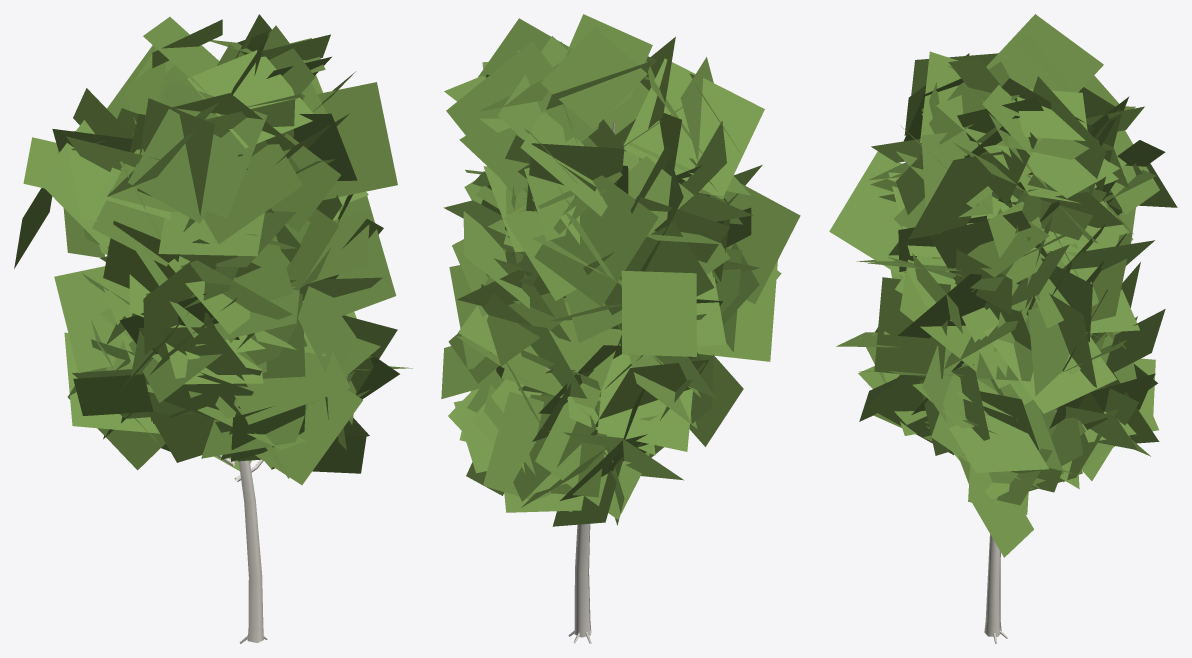
The model's file is birch-5-lod2.glb.
The picture shows the model from 3 angles, left to right: view 1: azimuth 30°, elevation 25°; view 2: azimuth 150°, elevation 25°; view 3: azimuth 270°, elevation 25°; orthographic projection. The views are drawn at different scales.
Parts seen in each view (by area): view 1: birch-5-lod2-foliage, birch-5-lod2-bark; view 2: birch-5-lod2-foliage, birch-5-lod2-bark; view 3: birch-5-lod2-foliage, birch-5-lod2-bark.
Part boxes in pixels (bbox=[...]): birch-5-lod2-foliage: bbox=[14, 14, 412, 484]; birch-5-lod2-bark: bbox=[217, 455, 267, 643]; birch-5-lod2-foliage: bbox=[441, 14, 800, 526]; birch-5-lod2-bark: bbox=[545, 110, 703, 643]; birch-5-lod2-foliage: bbox=[829, 14, 1177, 557]; birch-5-lod2-bark: bbox=[984, 411, 1056, 643].
Bounding box in the file's own units: 8.54 × 15.21 × 8.14.
